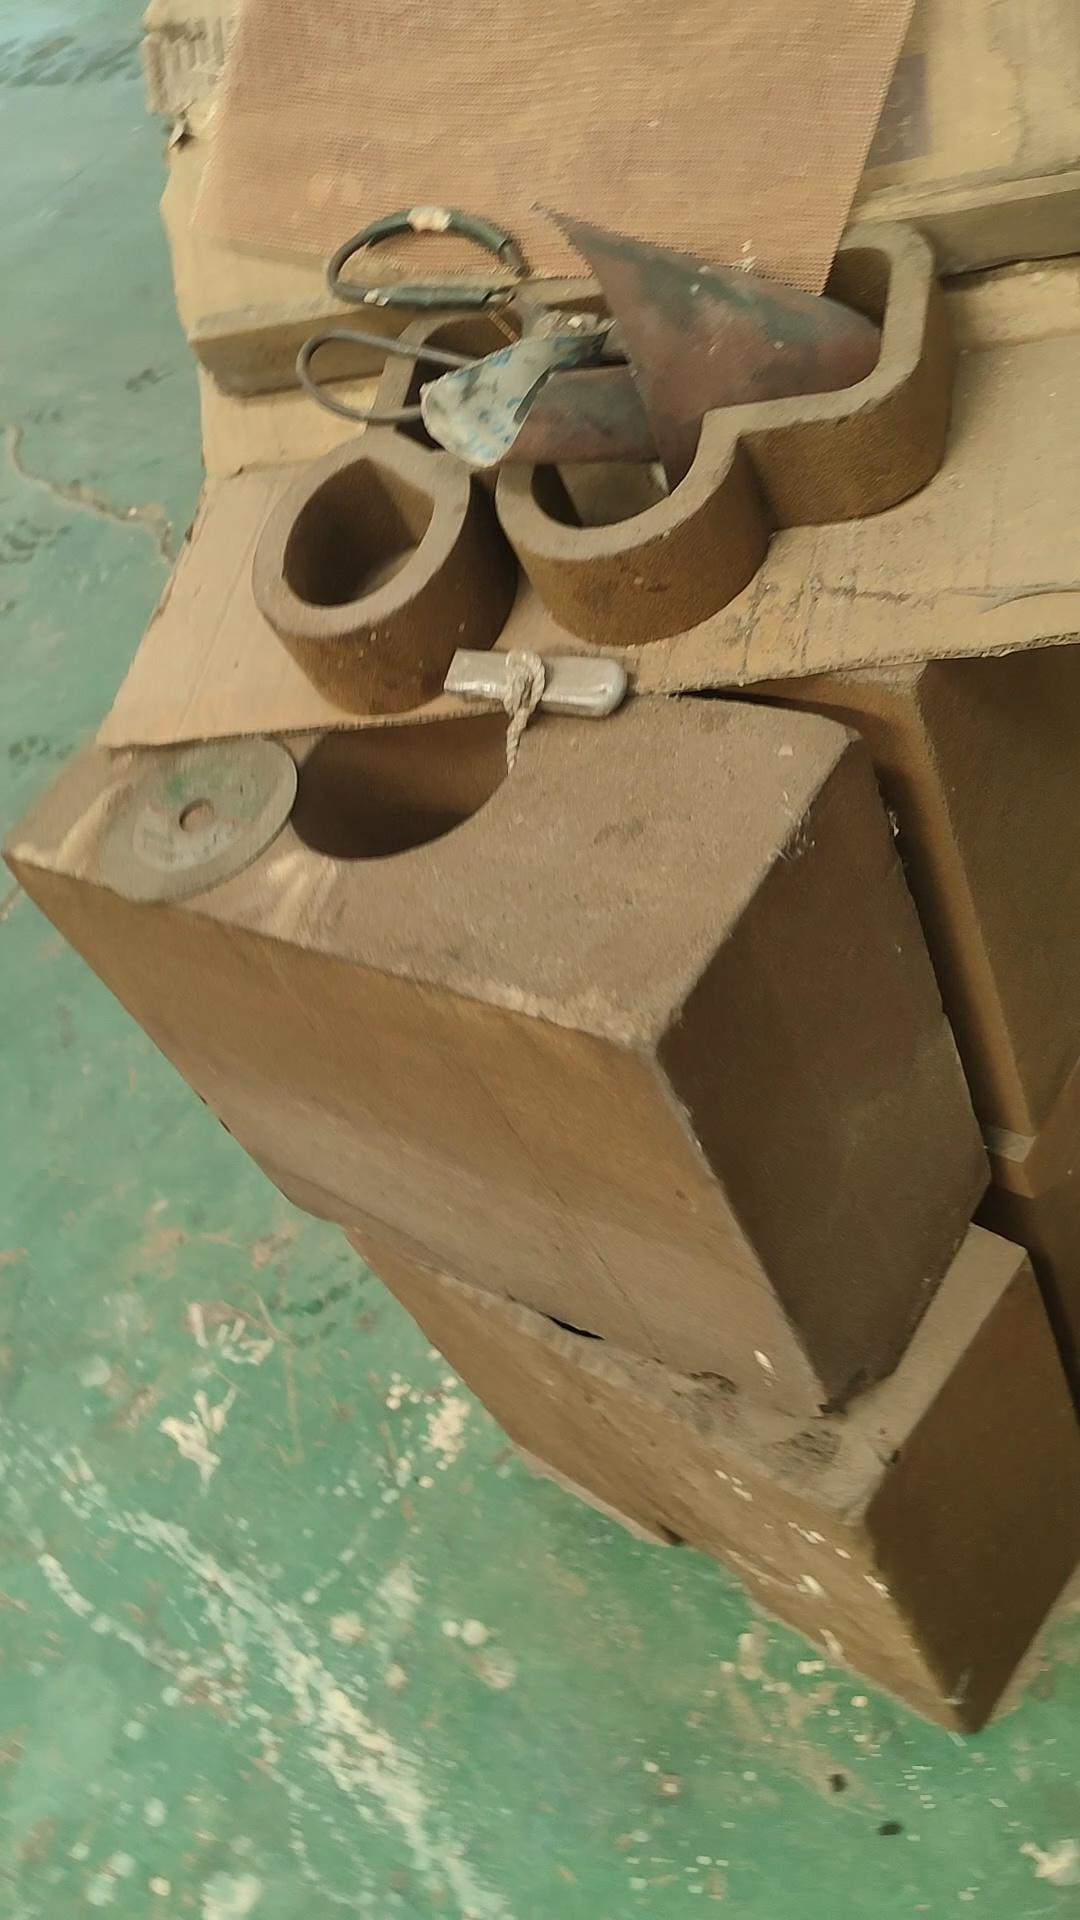pouring hole: (278, 651, 530, 861)
